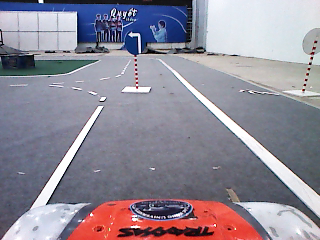turn: (123, 29, 147, 56)
